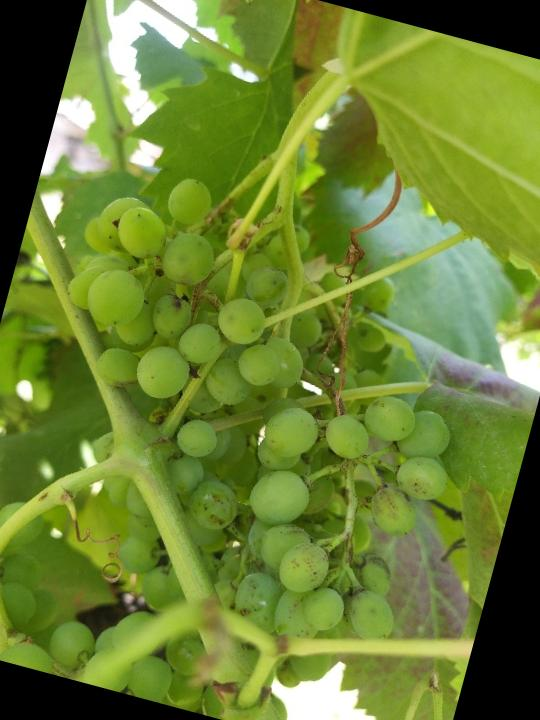grape: (0, 148, 507, 719)
